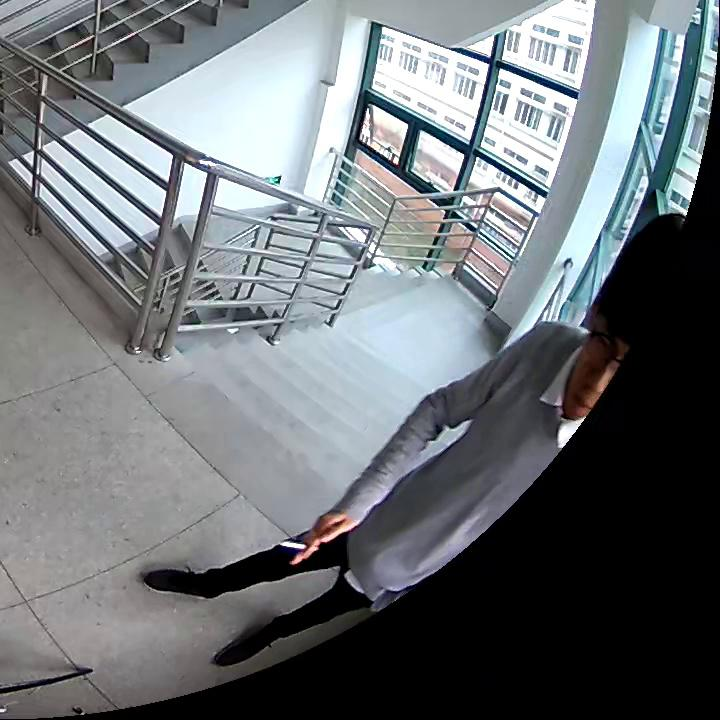handsmoke: (278, 509, 353, 567)
